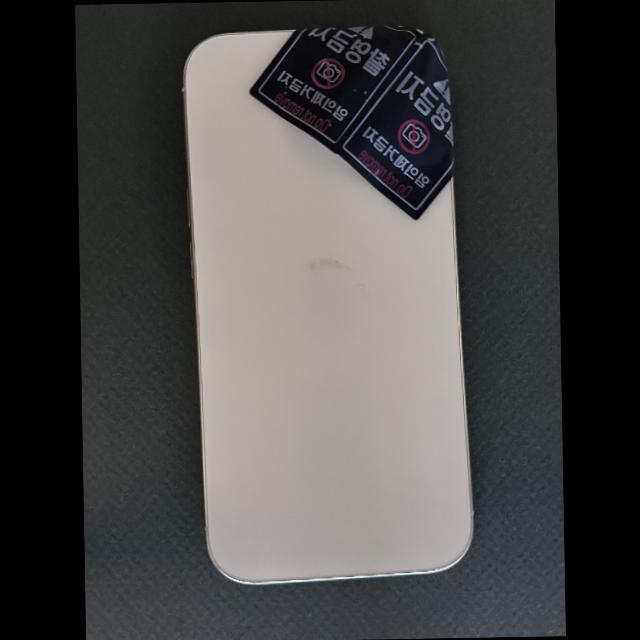phone: (184, 24, 473, 585)
sticker: (333, 31, 455, 221), (248, 24, 422, 154)
